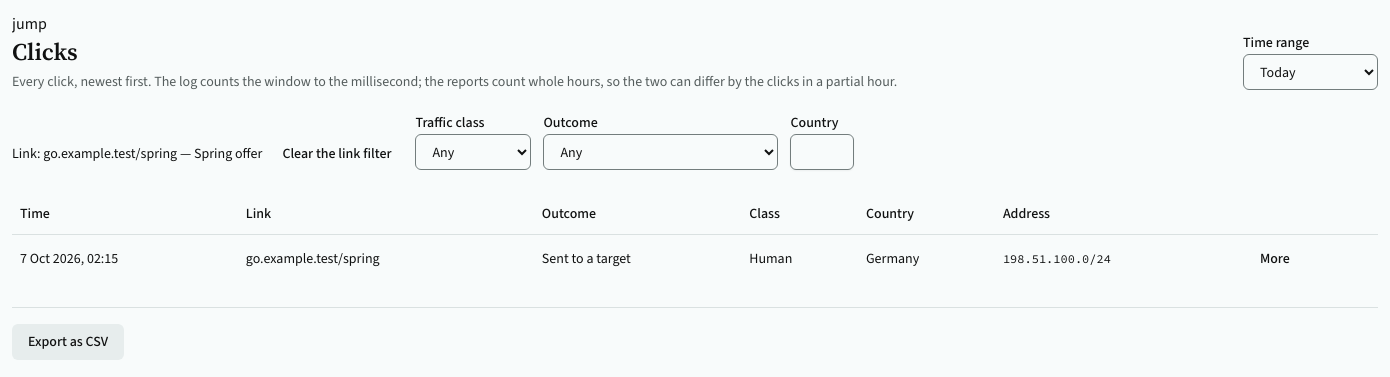
Test case: the click log › shows nothing of the old link once the address names a different one still loading
Expected: the text "Link: go.example.test/spring — Spring offer" is shown, left=12, top=144, right=262, bottom=164
Click the link "jump" at (29, 24), box left=12, top=13, right=47, bottom=34
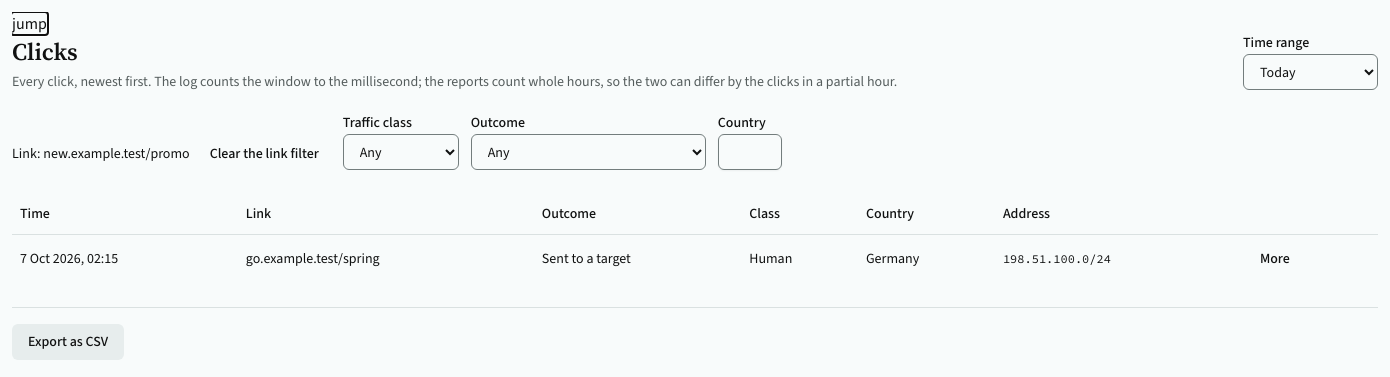
Expected: the text "Link: go.example.test/spring — Spring offer" is gone
Expected: the text "Link: new.example.test/promo" is shown, left=12, top=144, right=190, bottom=164
